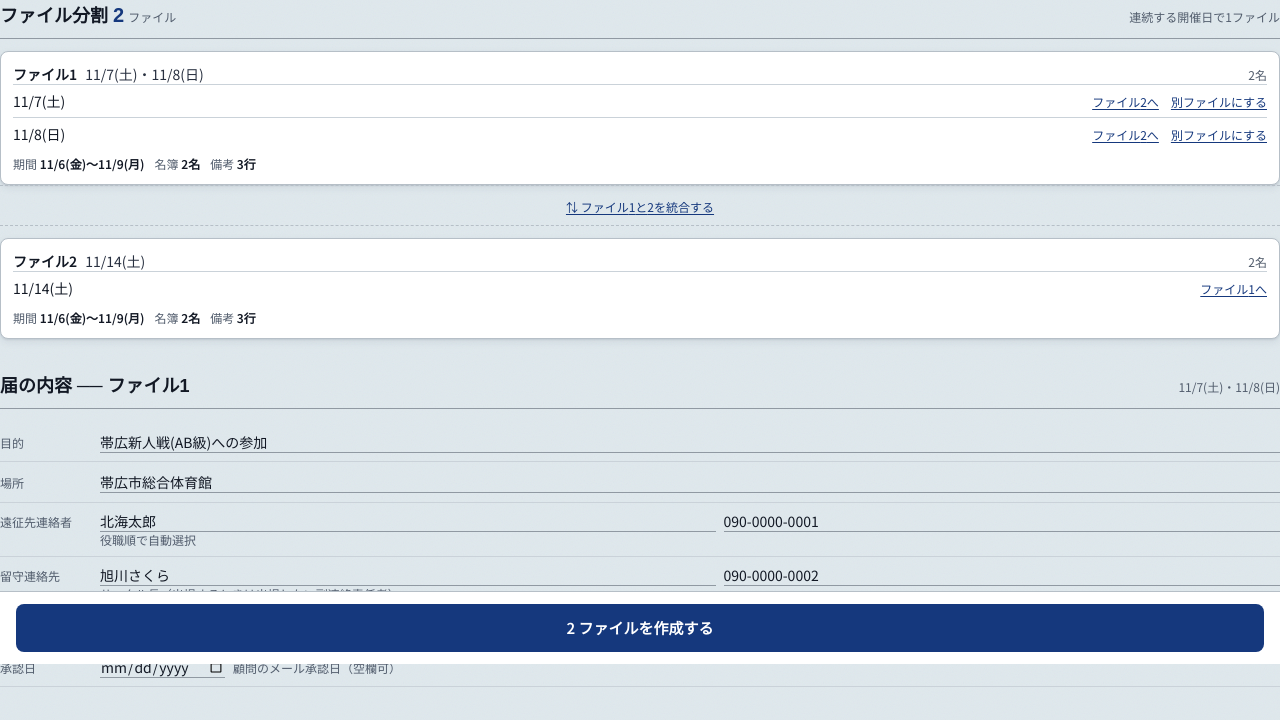
Test case: ファイル分割を変えたら既定値を取り直す（Codex R1 #9） › 統合すると reloadAction が新しい分割で呼ばれ、目的と場所が置き換わる
The width and height of the screenshot is (1280, 720).
Click the button "⇅ ファイル1と2を統合する": (640, 207) [566,199,714,215]
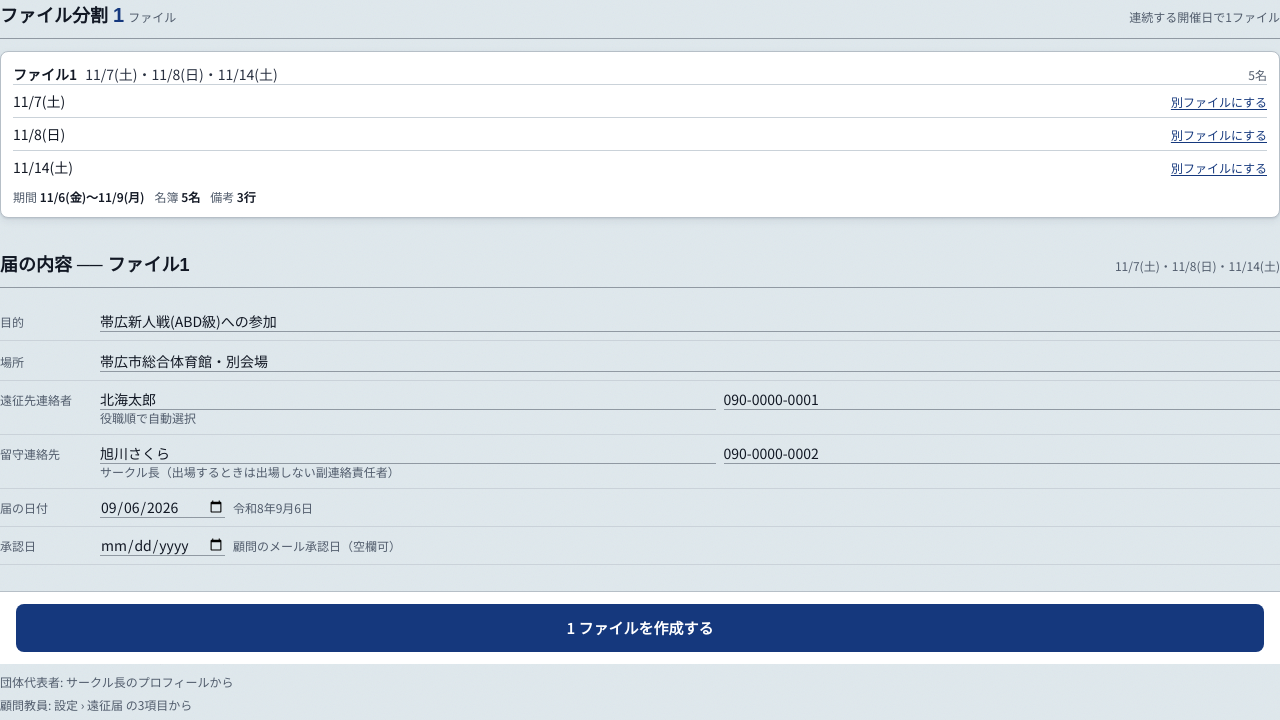
Now the field named "ファイル1の目的" holds "帯広新人戦(ABD級)への参加", box [100,311,1279,332]
Now the field named "ファイル1の場所" holds "帯広市総合体育館・別会場", box [100,351,1279,372]
